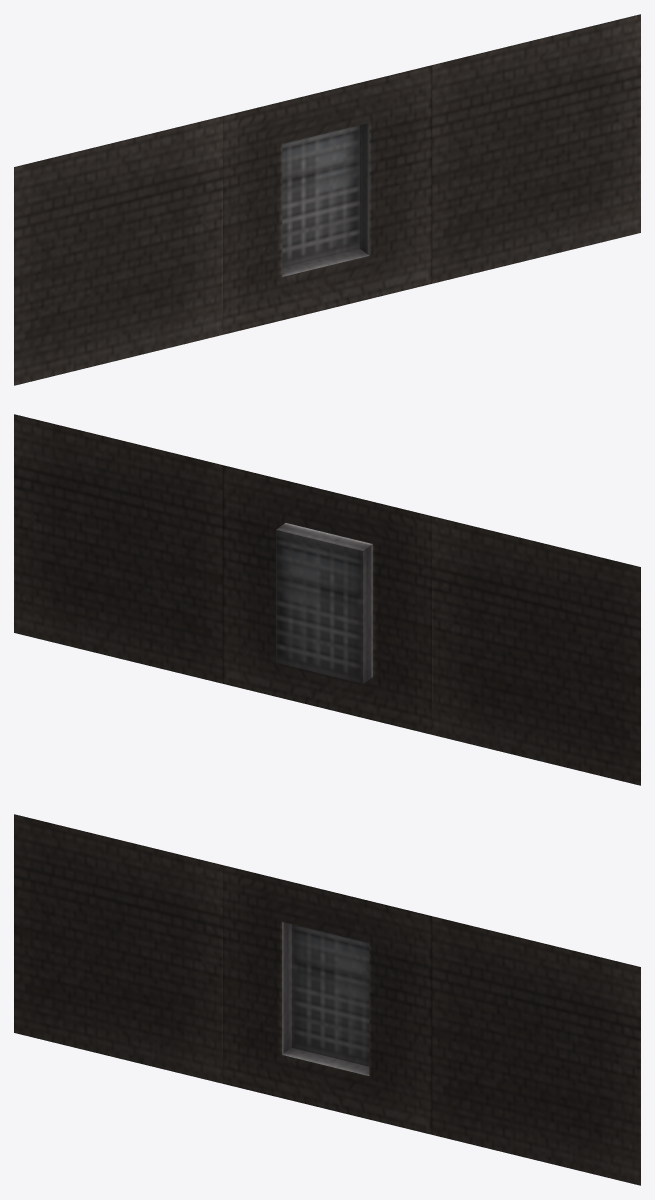
File: B6_BricksWall3x.FBX
3 renders of one model, top to bottom at view 1: azimuth 30°, elevation 25°; view 2: azimuth 150°, elevation 25°; view 3: azimuth 330°, elevation 25°, orthographic.
Parts seen in each view (by area): view 1: B6_BricksWall3x; view 2: B6_BricksWall3x; view 3: B6_BricksWall3x.
Boxes of the visible parts, box(x1,y1,x2,y2) form: B6_BricksWall3x: box(14, 14, 640, 385); B6_BricksWall3x: box(14, 414, 640, 785); B6_BricksWall3x: box(14, 814, 640, 1185).
Size of the model in its own units: 12 by 4 by 0.3197.
